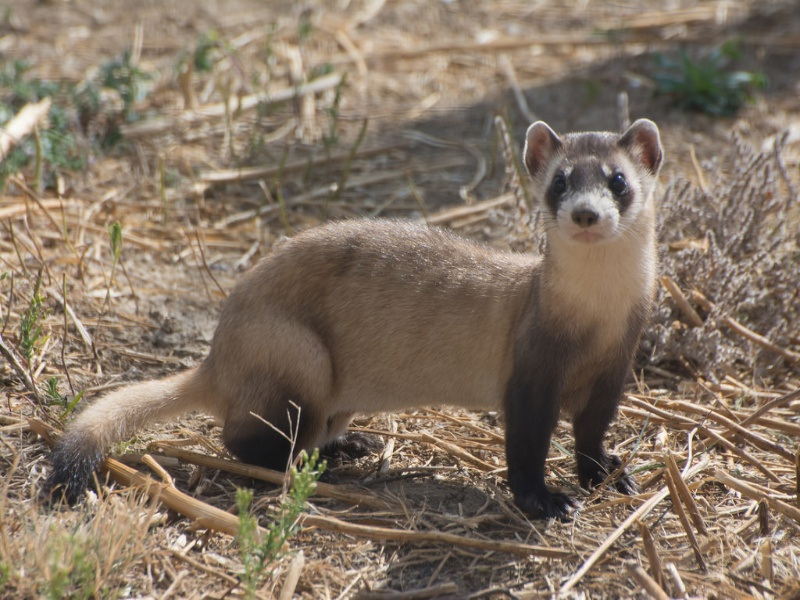minkish: (44, 115, 671, 517)
